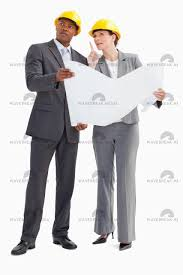Person_wearing_helmet: (88, 12, 126, 36), (51, 5, 82, 29)
